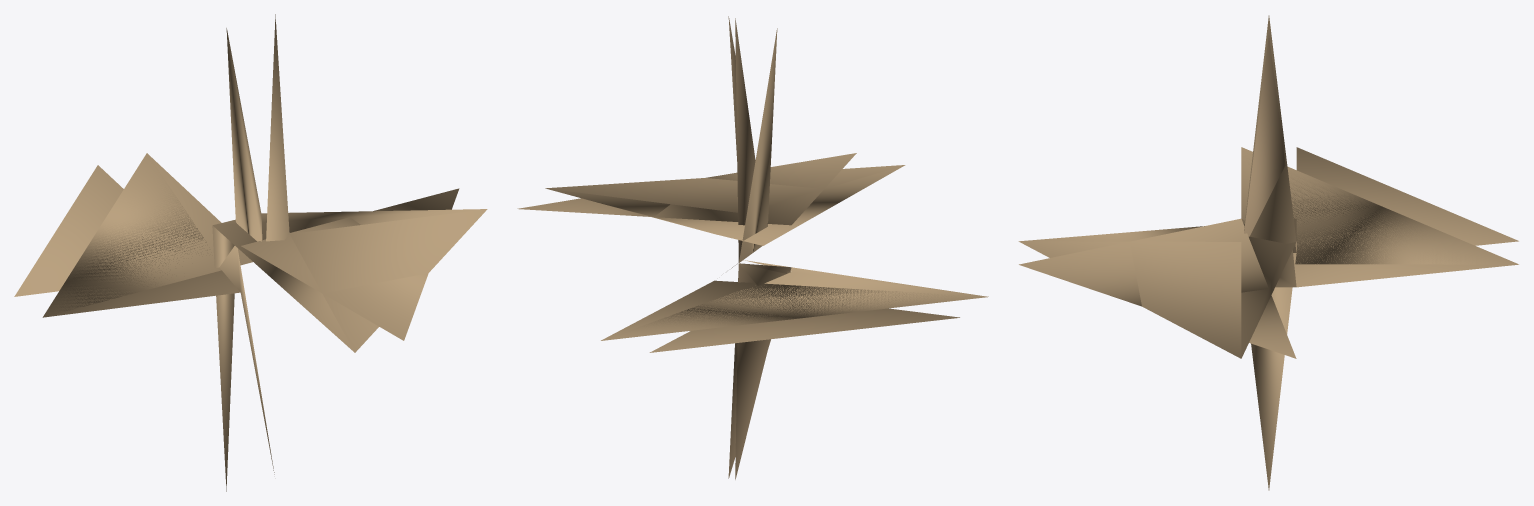
File: equip_head_leather_cowl.glb
The picture shows the model from 3 angles, left to right: view 1: azimuth 30°, elevation 25°; view 2: azimuth 150°, elevation 25°; view 3: azimuth 270°, elevation 25°; orthographic projection. The views are drawn at different scales.
Visible parts, largest first — view 1: equip_head_leather_cowl; view 2: equip_head_leather_cowl; view 3: equip_head_leather_cowl.
Boxes of the visible parts, box(x1,y1,x2,y2) form: equip_head_leather_cowl: box(14, 14, 487, 491); equip_head_leather_cowl: box(517, 16, 988, 479); equip_head_leather_cowl: box(1018, 15, 1518, 490).
Size of the model in its own units: 2 by 2 by 2.
